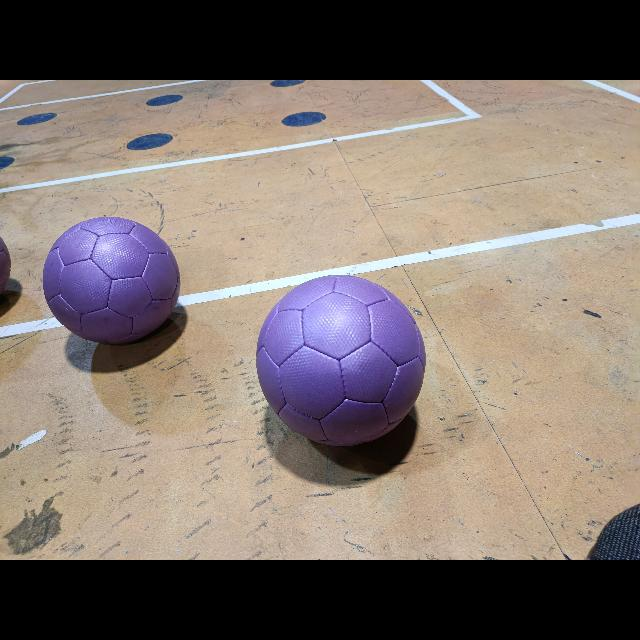P: (257, 274, 425, 446), (42, 216, 180, 342), (0, 236, 10, 294)
